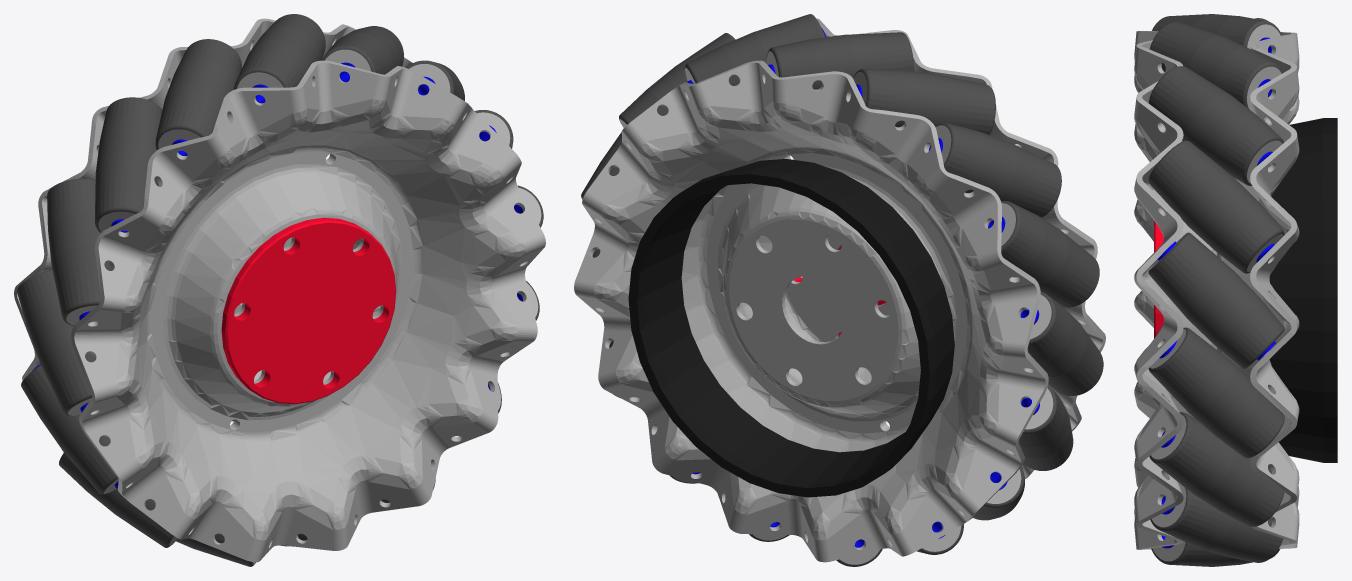
File: rear_right.dae
3 renders of one model, left to right at view 1: azimuth 30°, elevation 25°; view 2: azimuth 150°, elevation 25°; view 3: azimuth 270°, elevation 25°, orthographic.
Parts seen in each view (by area): view 1: node_g1_1, node_g1_0, node_g3_0, node_g2_2, node_g2_0, node_g1_3, node_g2_1, node_g1_2, node_g0_0; view 2: node_g1_2, node_g1_3, node_g4_0, node_g2_2, node_g2_0, node_g1_1, node_g2_1, node_g1_0, node_g0_0; view 3: node_g2_1, node_g2_0, node_g4_0, node_g1_0, node_g1_2, node_g1_1, node_g1_3, node_g2_2, node_g0_0, node_g3_0.
Boxes of the visible parts, bbox=[...] form: node_g1_1: bbox=[33, 21, 537, 562]; node_g1_0: bbox=[68, 49, 545, 560]; node_g3_0: bbox=[221, 217, 396, 404]; node_g2_2: bbox=[47, 39, 307, 566]; node_g2_0: bbox=[17, 14, 543, 547]; node_g1_3: bbox=[14, 18, 500, 564]; node_g2_1: bbox=[99, 26, 513, 502]; node_g1_2: bbox=[17, 21, 412, 427]; node_g0_0: bbox=[32, 62, 522, 488]; node_g1_2: bbox=[574, 64, 1045, 562]; node_g1_3: bbox=[590, 60, 1048, 564]; node_g4_0: bbox=[628, 159, 954, 497]; node_g2_2: bbox=[836, 68, 1099, 566]; node_g2_0: bbox=[592, 32, 1103, 520]; node_g1_1: bbox=[582, 18, 1105, 540]; node_g2_1: bbox=[581, 14, 1070, 541]; node_g1_0: bbox=[619, 33, 1102, 503]; node_g0_0: bbox=[687, 28, 1039, 547]; node_g2_1: bbox=[1148, 18, 1284, 566]; node_g2_0: bbox=[1148, 22, 1284, 526]; node_g4_0: bbox=[1269, 118, 1337, 462]; node_g1_0: bbox=[1134, 31, 1283, 549]; node_g1_2: bbox=[1253, 32, 1299, 548]; node_g1_1: bbox=[1134, 31, 1291, 561]; node_g1_3: bbox=[1152, 24, 1299, 545]; node_g2_2: bbox=[1152, 14, 1281, 47]; node_g0_0: bbox=[1157, 37, 1275, 548]; node_g3_0: bbox=[1154, 221, 1163, 338].
Size of the model in its own units: 0.1523 by 0.056 by 0.1523.
